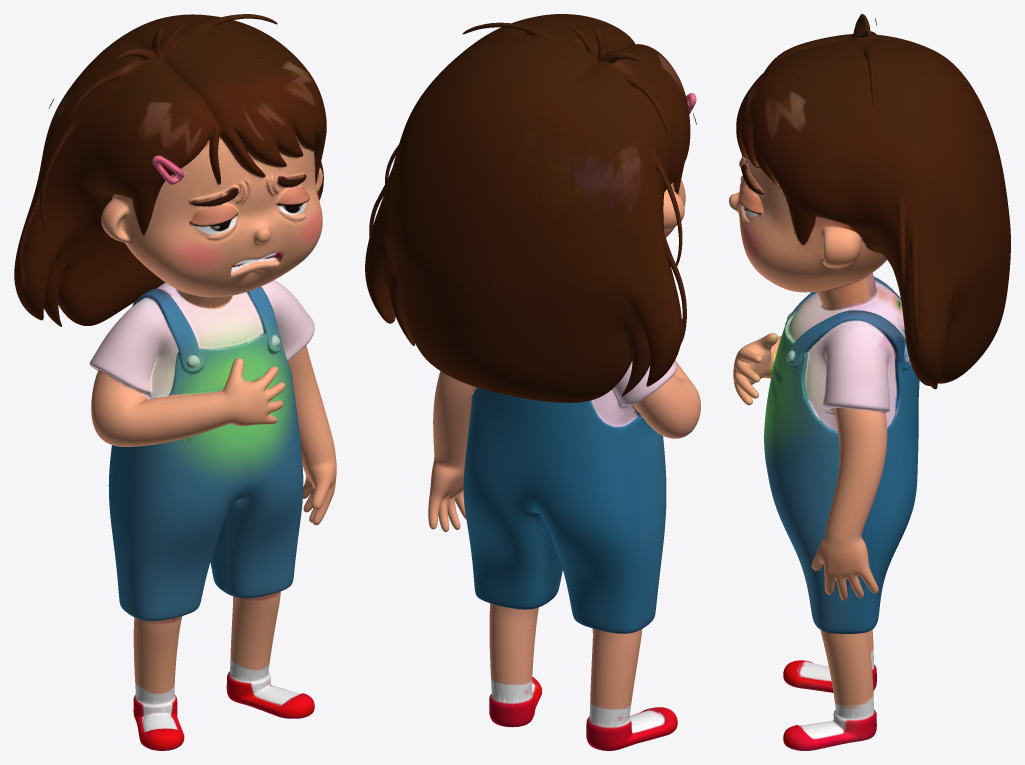
Rendered from Meshy_AI_dor_de_barriga_0409200659_texture.fbx.
The picture shows the model from 3 angles, left to right: view 1: azimuth 30°, elevation 25°; view 2: azimuth 150°, elevation 25°; view 3: azimuth 270°, elevation 25°; orthographic projection. The views are drawn at different scales.
Parts seen in each view (by area): view 1: Mesh_0; view 2: Mesh_0; view 3: Mesh_0.
Boxes of the visible parts, x1,y1,x2,y2 form: Mesh_0: (14, 14, 336, 750); Mesh_0: (365, 14, 700, 750); Mesh_0: (729, 14, 1010, 750).
Bounding box in the file's own units: 87.97 × 190 × 71.49.
1 material, 1 textured.
